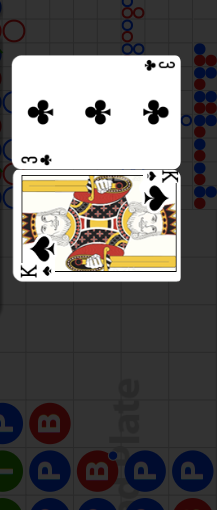3C: (142, 58, 176, 73)
KS: (19, 264, 55, 280)
